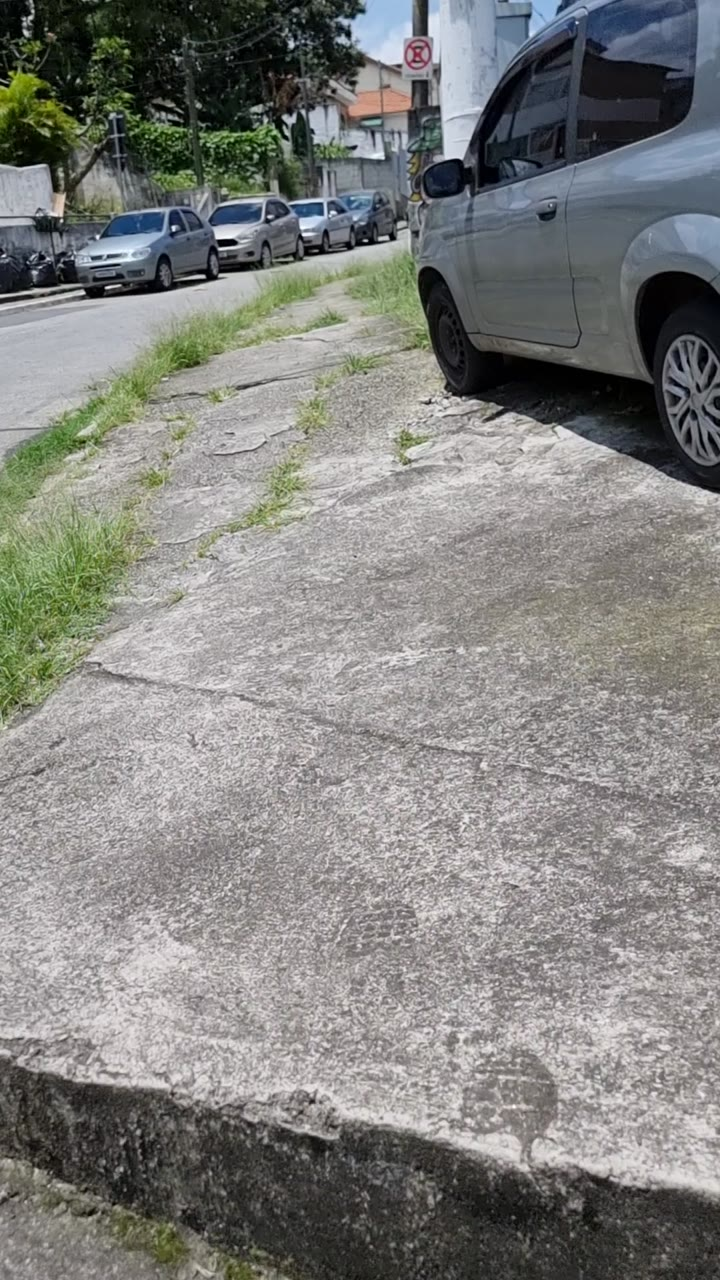desnivel: (0, 1024, 720, 1229)
obstaculo: (410, 243, 720, 512)
